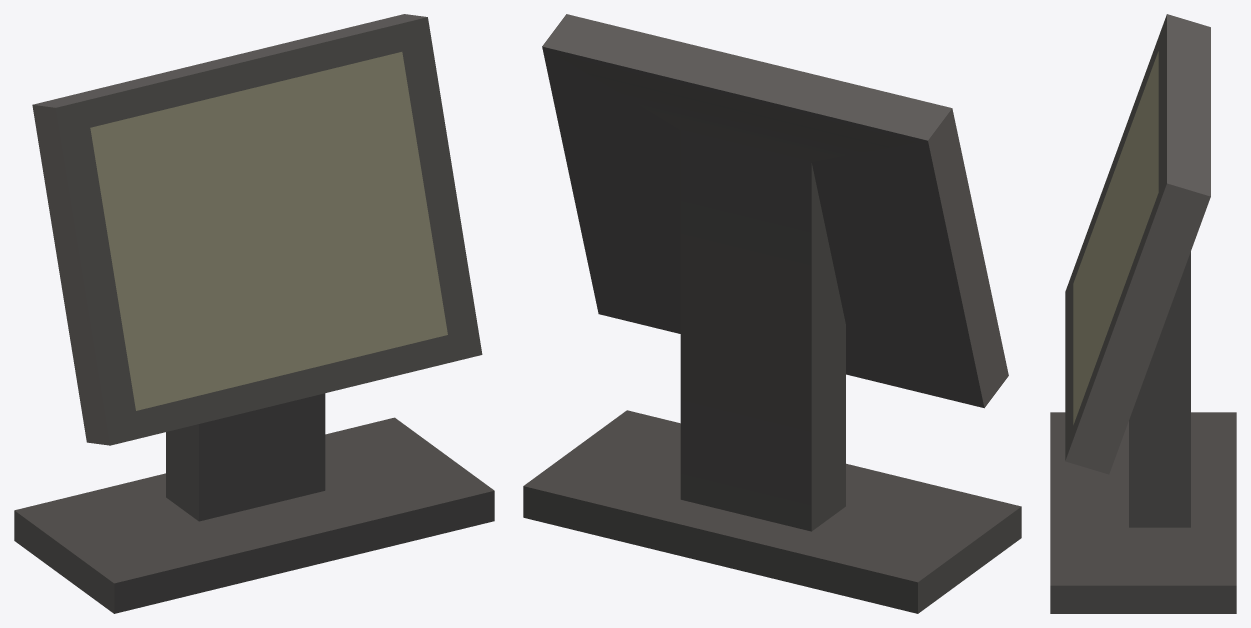
Rendered from Monitor.glb.
3 renders of one model, left to right at view 1: azimuth 30°, elevation 25°; view 2: azimuth 150°, elevation 25°; view 3: azimuth 270°, elevation 25°, orthographic. The views are drawn at different scales.
Parts seen in each view (by area): view 1: SI_Prop_Monitor_01; view 2: SI_Prop_Monitor_01; view 3: SI_Prop_Monitor_01.
Part boxes in pixels (x1,y1,x2,y2): SI_Prop_Monitor_01: (14, 14, 494, 613); SI_Prop_Monitor_01: (523, 14, 1021, 613); SI_Prop_Monitor_01: (1050, 14, 1236, 613).
Bounding box in the file's own units: 0.01 × 0.0115 × 0.00455.
Materials: 1 (1 with a texture image).
